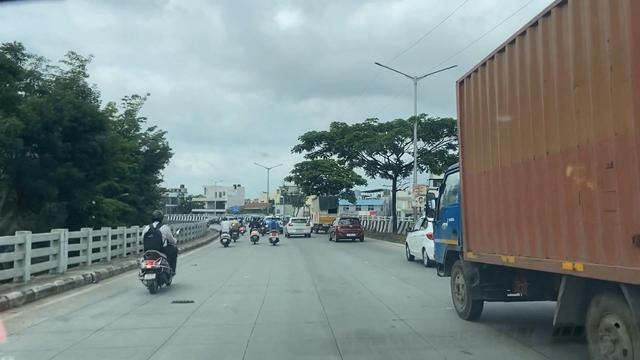LMV: (146, 209, 175, 287), (311, 190, 340, 232), (338, 218, 362, 242), (283, 219, 314, 237), (217, 216, 232, 246), (270, 213, 281, 247), (247, 213, 257, 244)
